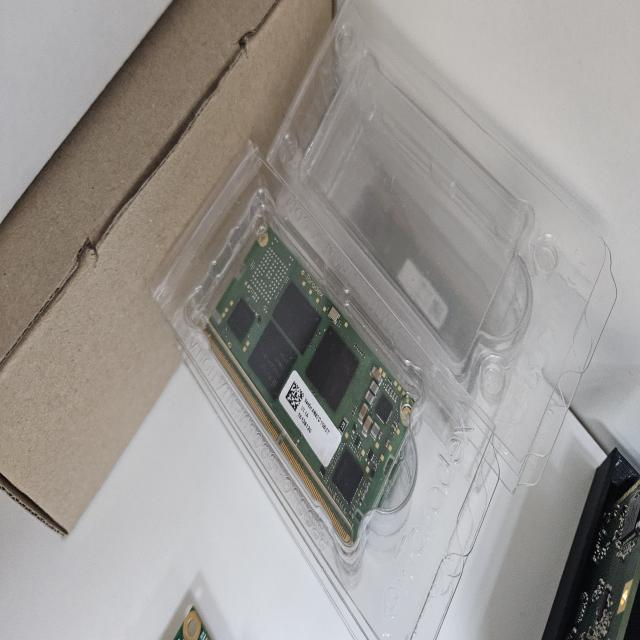som: (198, 220, 418, 548)
